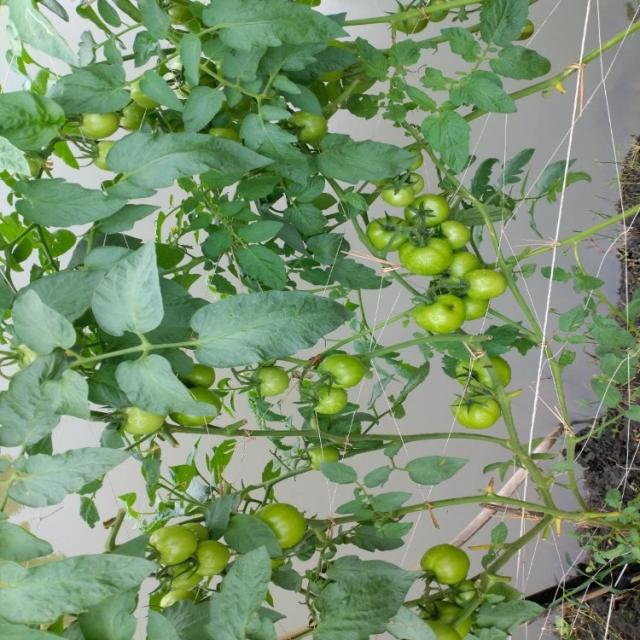tomato: (417, 293, 467, 347), (259, 501, 312, 547), (398, 235, 451, 280), (314, 346, 365, 390), (459, 357, 519, 393), (465, 265, 521, 303), (456, 393, 508, 433), (419, 540, 467, 582), (421, 600, 470, 640), (152, 529, 208, 563), (409, 195, 453, 234), (365, 218, 413, 252), (284, 111, 336, 142), (304, 441, 354, 473), (308, 380, 353, 414), (249, 369, 294, 403), (196, 539, 233, 576), (126, 407, 172, 434), (384, 171, 425, 201), (183, 360, 222, 389), (79, 114, 126, 137), (434, 225, 477, 250), (160, 569, 208, 588), (463, 295, 490, 325), (392, 5, 421, 32), (10, 340, 38, 367), (160, 586, 197, 606), (209, 124, 245, 142), (456, 584, 481, 608), (92, 142, 116, 167), (428, 1, 452, 20)
